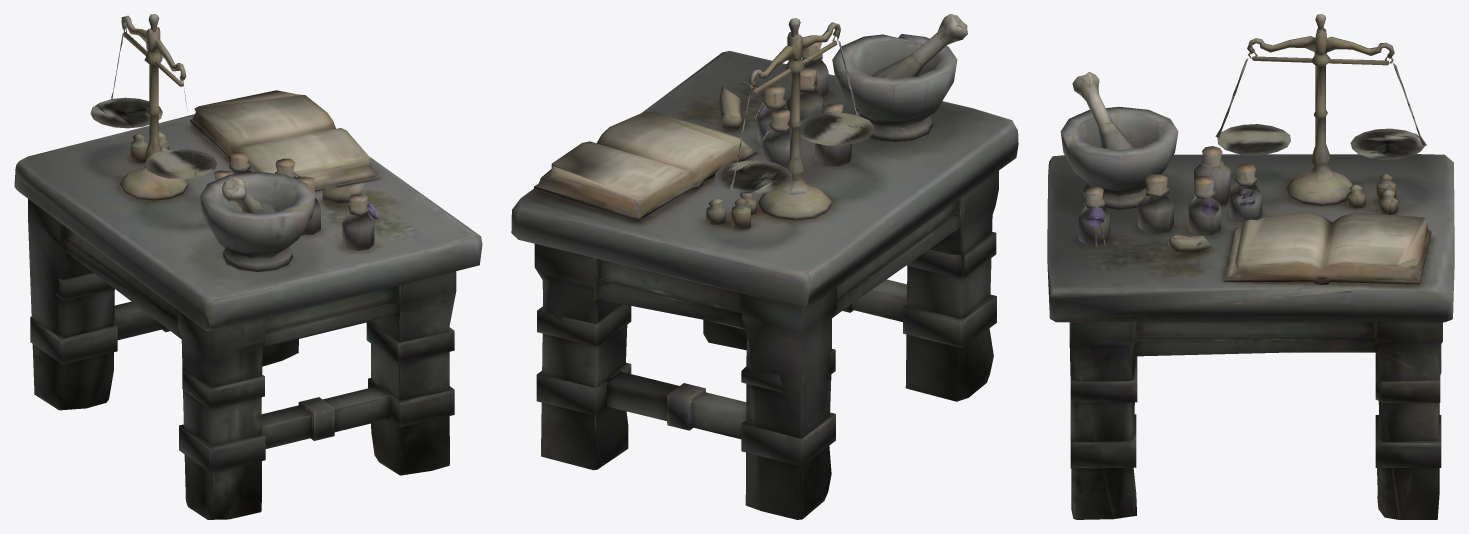
Rendered from alch_mortar_table.glb.
3 views of the same model, side by side, from view 1: azimuth 30°, elevation 25°; view 2: azimuth 150°, elevation 25°; view 3: azimuth 270°, elevation 25° (orthographic). The views are drawn at different scales.
Visible parts, largest first — view 1: tripo_node_89bc6743-deef-4f41-a35b-29078bea5899; view 2: tripo_node_89bc6743-deef-4f41-a35b-29078bea5899; view 3: tripo_node_89bc6743-deef-4f41-a35b-29078bea5899.
Boxes of the visible parts, x1,y1,x2,y2 form: tripo_node_89bc6743-deef-4f41-a35b-29078bea5899: (14,14,482,519); tripo_node_89bc6743-deef-4f41-a35b-29078bea5899: (511,14,1018,519); tripo_node_89bc6743-deef-4f41-a35b-29078bea5899: (1047,14,1454,519).
Size of the model in its own units: 0.7071 by 0.998 by 0.8847.
1 material, 1 textured.
